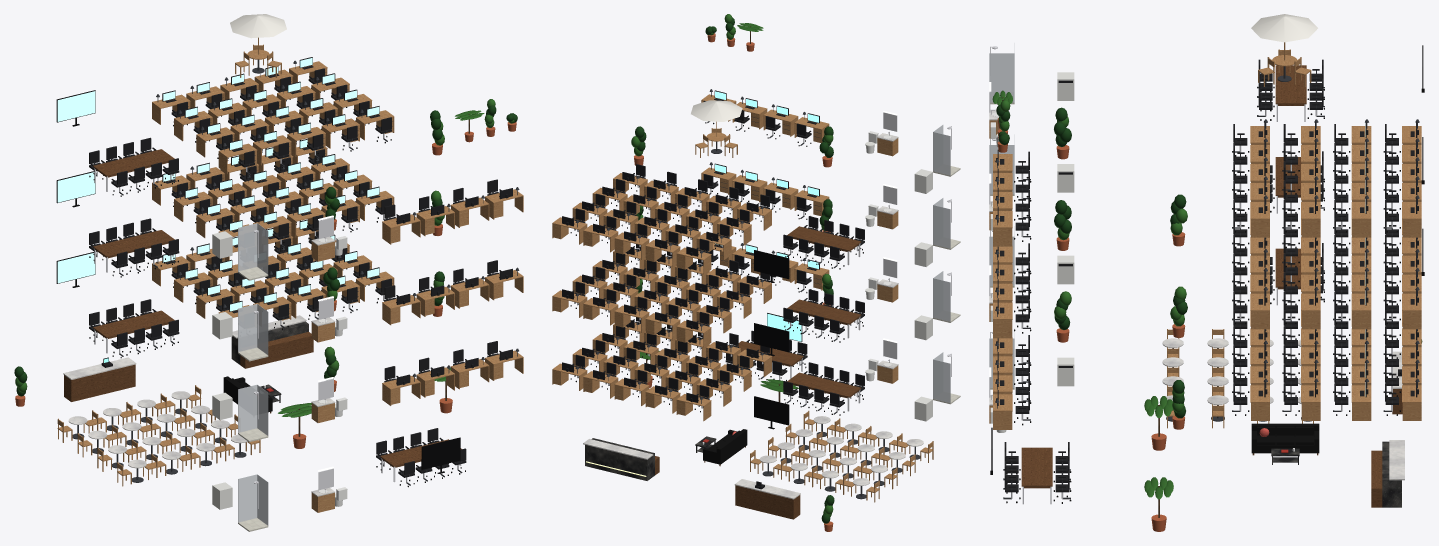
The model's file is i_glass_cube_office.gltf.
The picture shows the model from 3 angles, left to right: view 1: azimuth 30°, elevation 25°; view 2: azimuth 150°, elevation 25°; view 3: azimuth 270°, elevation 25°; orthographic projection. The views are drawn at different scales.
Visible parts, largest first — view 1: I_glass_cube_office; view 2: I_glass_cube_office; view 3: I_glass_cube_office.
Boxes of the visible parts, x1=… form: I_glass_cube_office: x1=14, y1=14, x2=523, y2=531; I_glass_cube_office: x1=552, y1=14, x2=960, y2=531; I_glass_cube_office: x1=989, y1=14, x2=1424, y2=531.
Size of the model in its own units: 15.88 by 17.25 by 15.49.
Materials: 26 (7 with a texture image).
